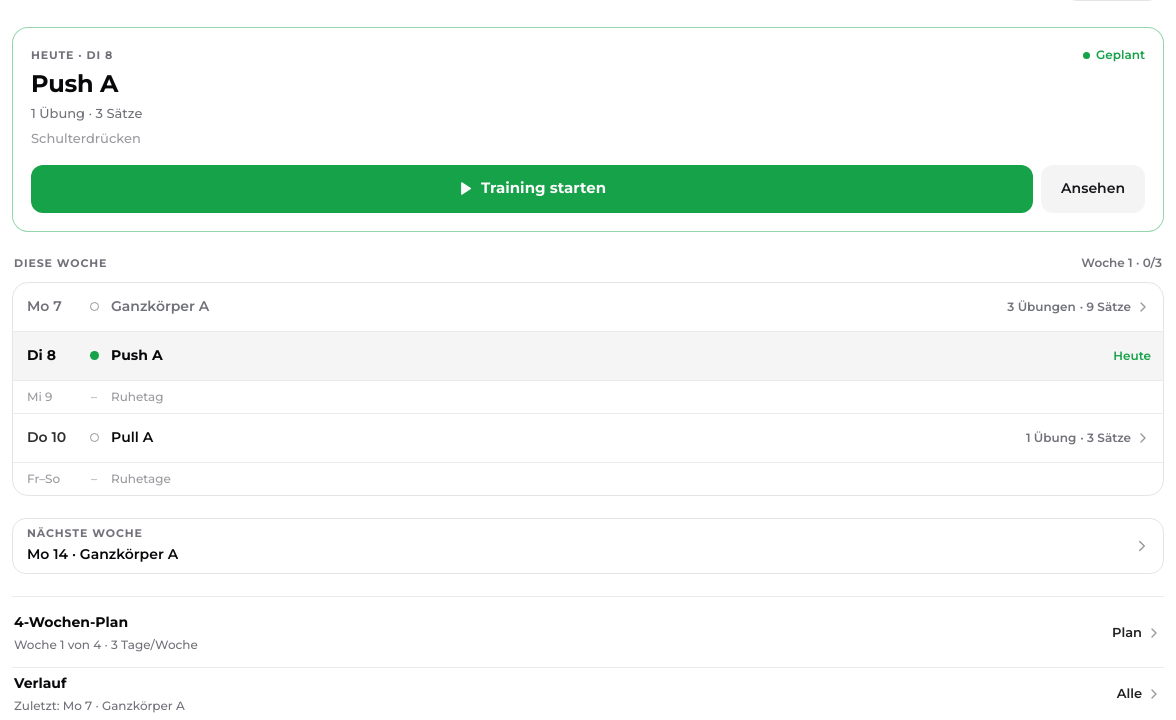
Verlauf › lists completed sessions newest first by month, named from each session's own plan
(page scrolled)
Expected: the text "Zuletzt: Mo 7 · Ganzkörper A" is shown, 14,697 -> 185,715
Click the button "Verlauf Zuletzt: Mo 7 · Ganzkörper A Alle": (40, 683) 12,667 -> 1164,719
(page scrolled)
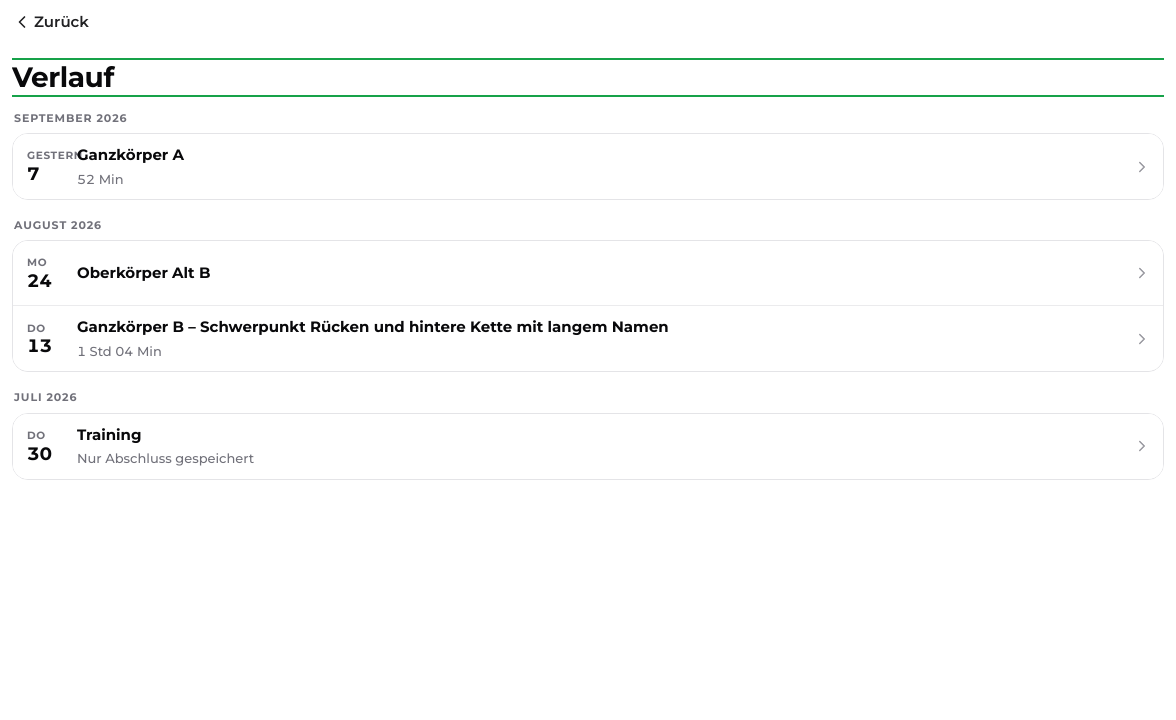
Expected: the heading "Verlauf" is shown, 12,60 -> 114,94
Result: the text "Gestern" is shown at 27,148 -> 67,164
